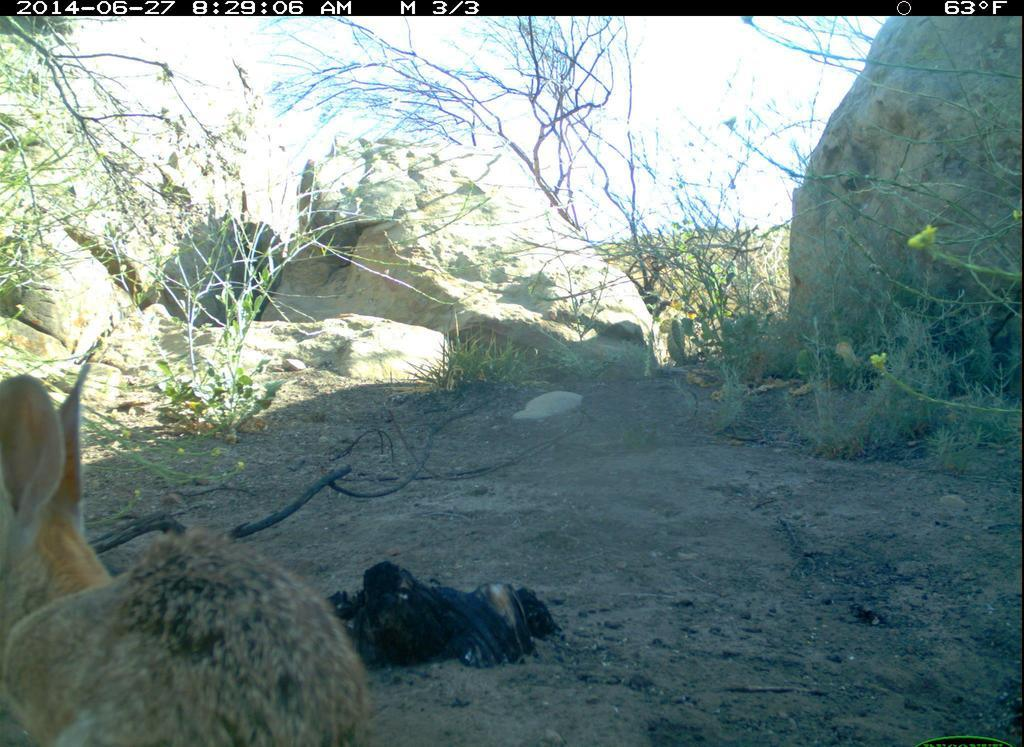rabbit: (2, 354, 383, 747)
